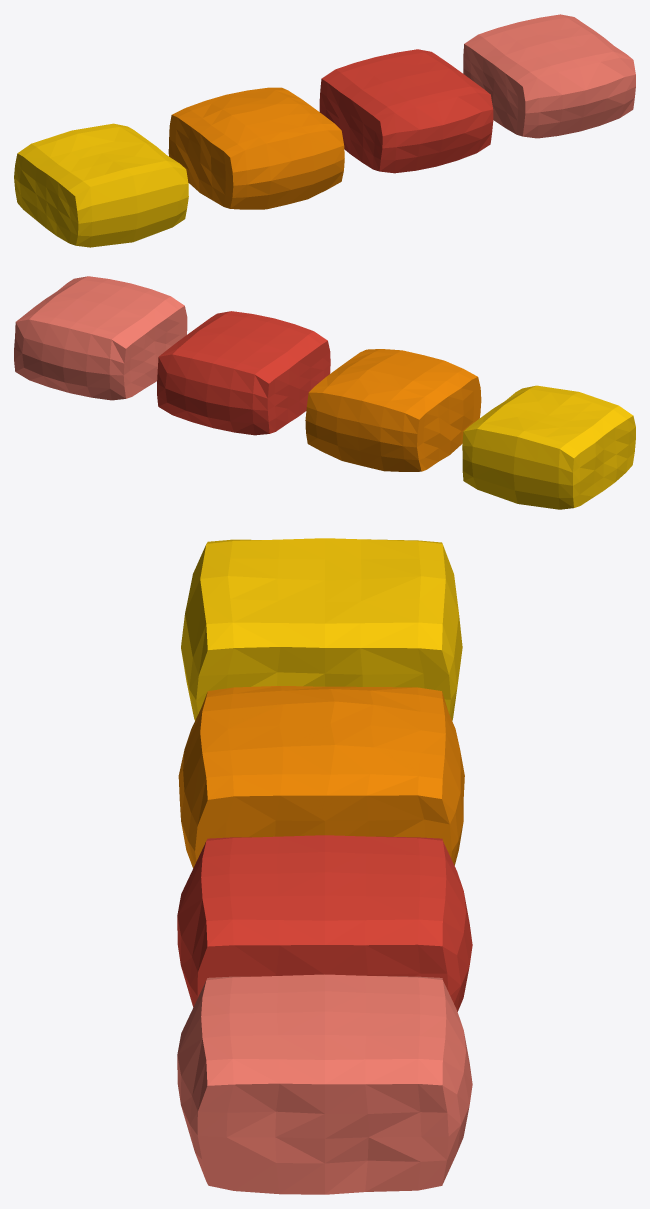
The model's file is 9bb418fe-e830-4efc-8809-16f1c267ca69.glb.
3 renders of one model, top to bottom at view 1: azimuth 30°, elevation 25°; view 2: azimuth 150°, elevation 25°; view 3: azimuth 270°, elevation 25°, orthographic. The views are drawn at different scales.
Visible parts, largest first — view 1: Node; view 2: Node; view 3: Node.
Boxes of the visible parts, x1,y1,x2,y2 form: Node: (14,14,635,247); Node: (14,276,635,509); Node: (177,538,472,1194).
Size of the model in its own units: 3.06 by 0.4043 by 0.7004.
